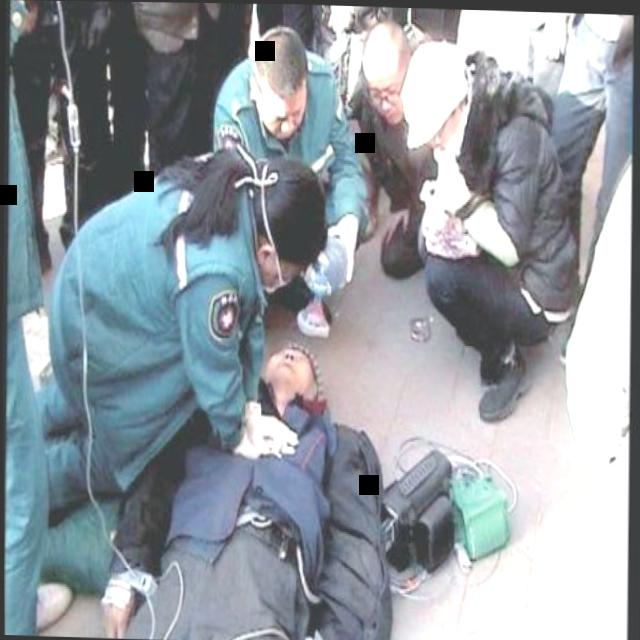Fall-Detected: (90, 324, 400, 640)
